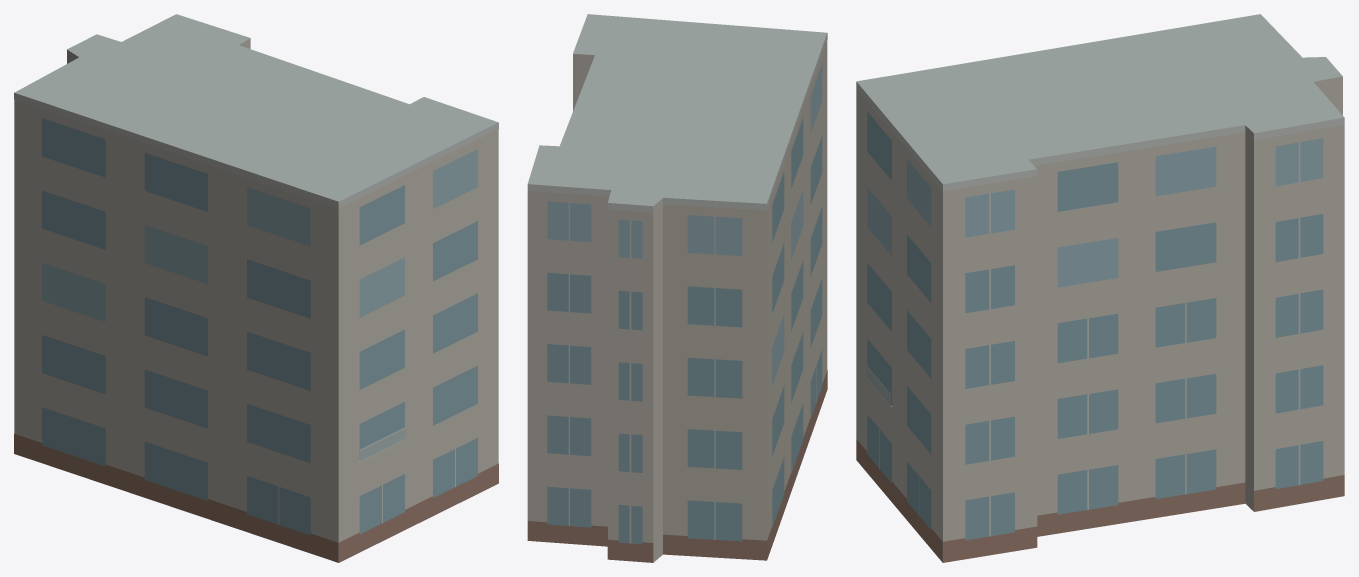
The model's file is survey-upis-32886626.glb.
3 views of the same model, side by side, from view 1: azimuth 30°, elevation 25°; view 2: azimuth 150°, elevation 25°; view 3: azimuth 270°, elevation 25° (orthographic). The views are drawn at different scales.
Parts seen in each view (by area): view 1: survey-upis-32886626.tmp; view 2: survey-upis-32886626.tmp; view 3: survey-upis-32886626.tmp.
Boxes of the visible parts, left/top/right/bottom form: survey-upis-32886626.tmp: left=14, top=14, right=498, bottom=562; survey-upis-32886626.tmp: left=527, top=14, right=827, bottom=562; survey-upis-32886626.tmp: left=856, top=14, right=1344, bottom=562.
Bounding box in the file's own units: 12.56 × 13 × 15.21.
